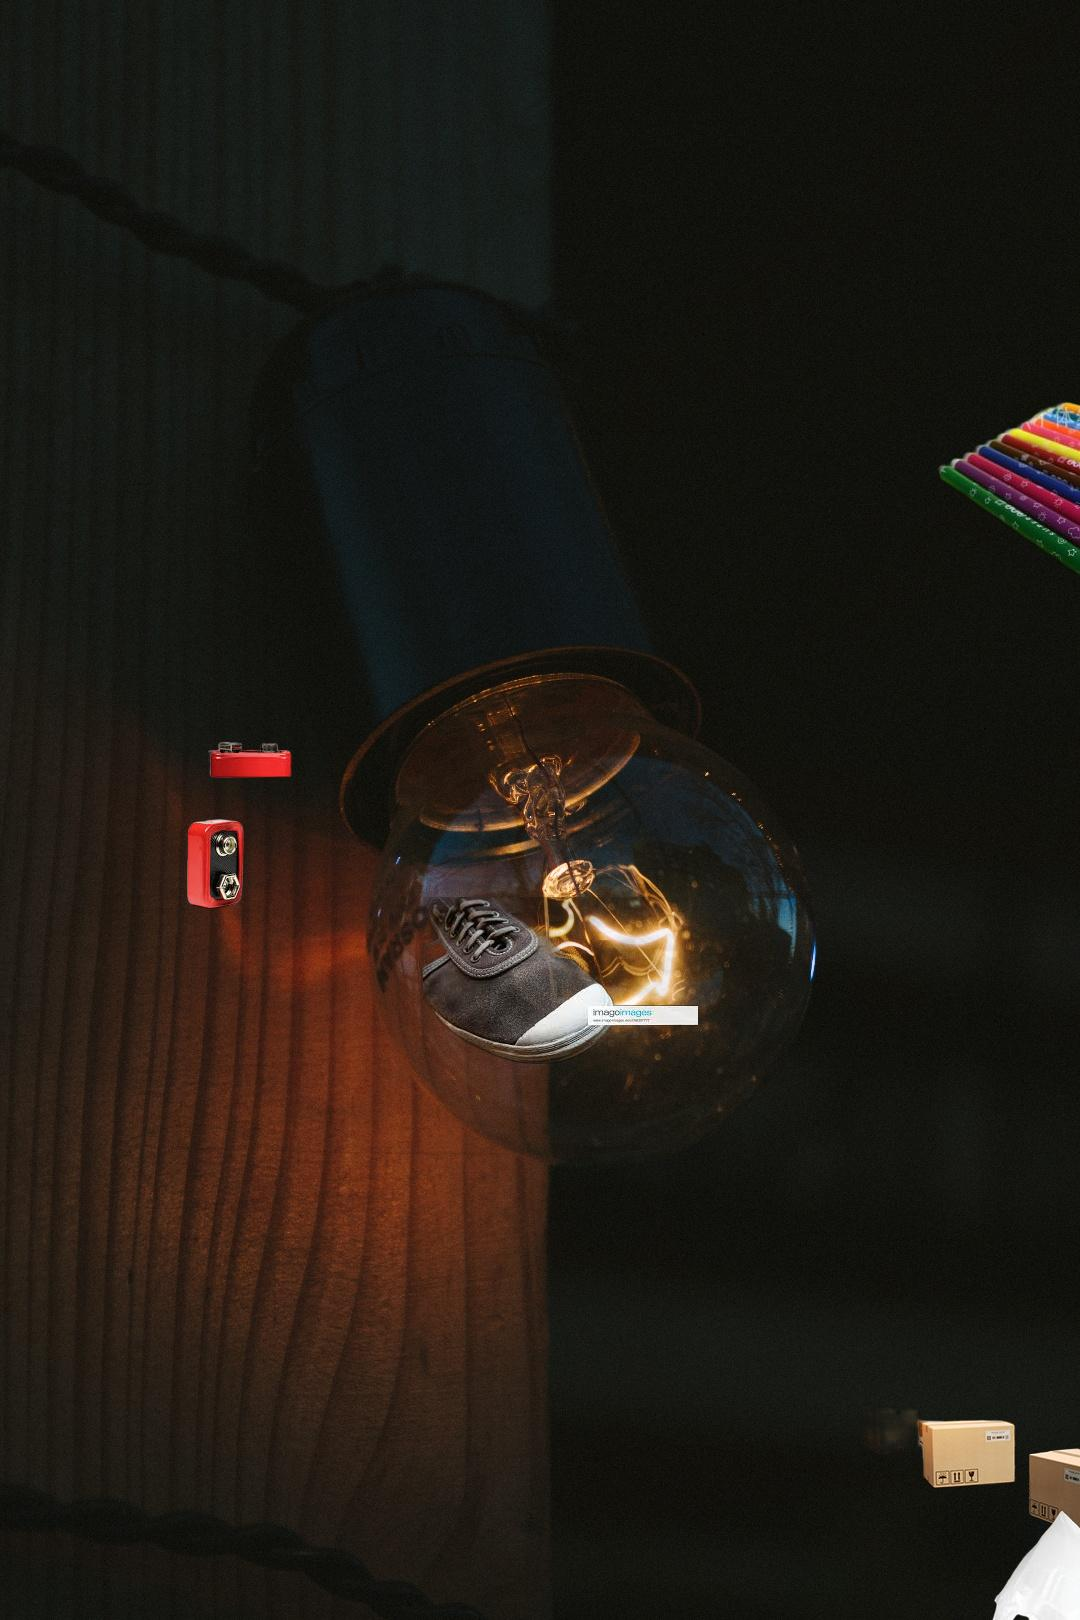battery: (106, 739, 294, 911)
penholder: (937, 399, 1080, 673)
plastic-bag: (984, 1505, 1080, 1620)
shoes: (423, 897, 698, 1066)
trashbox-cardboard: (820, 1380, 1080, 1559)
